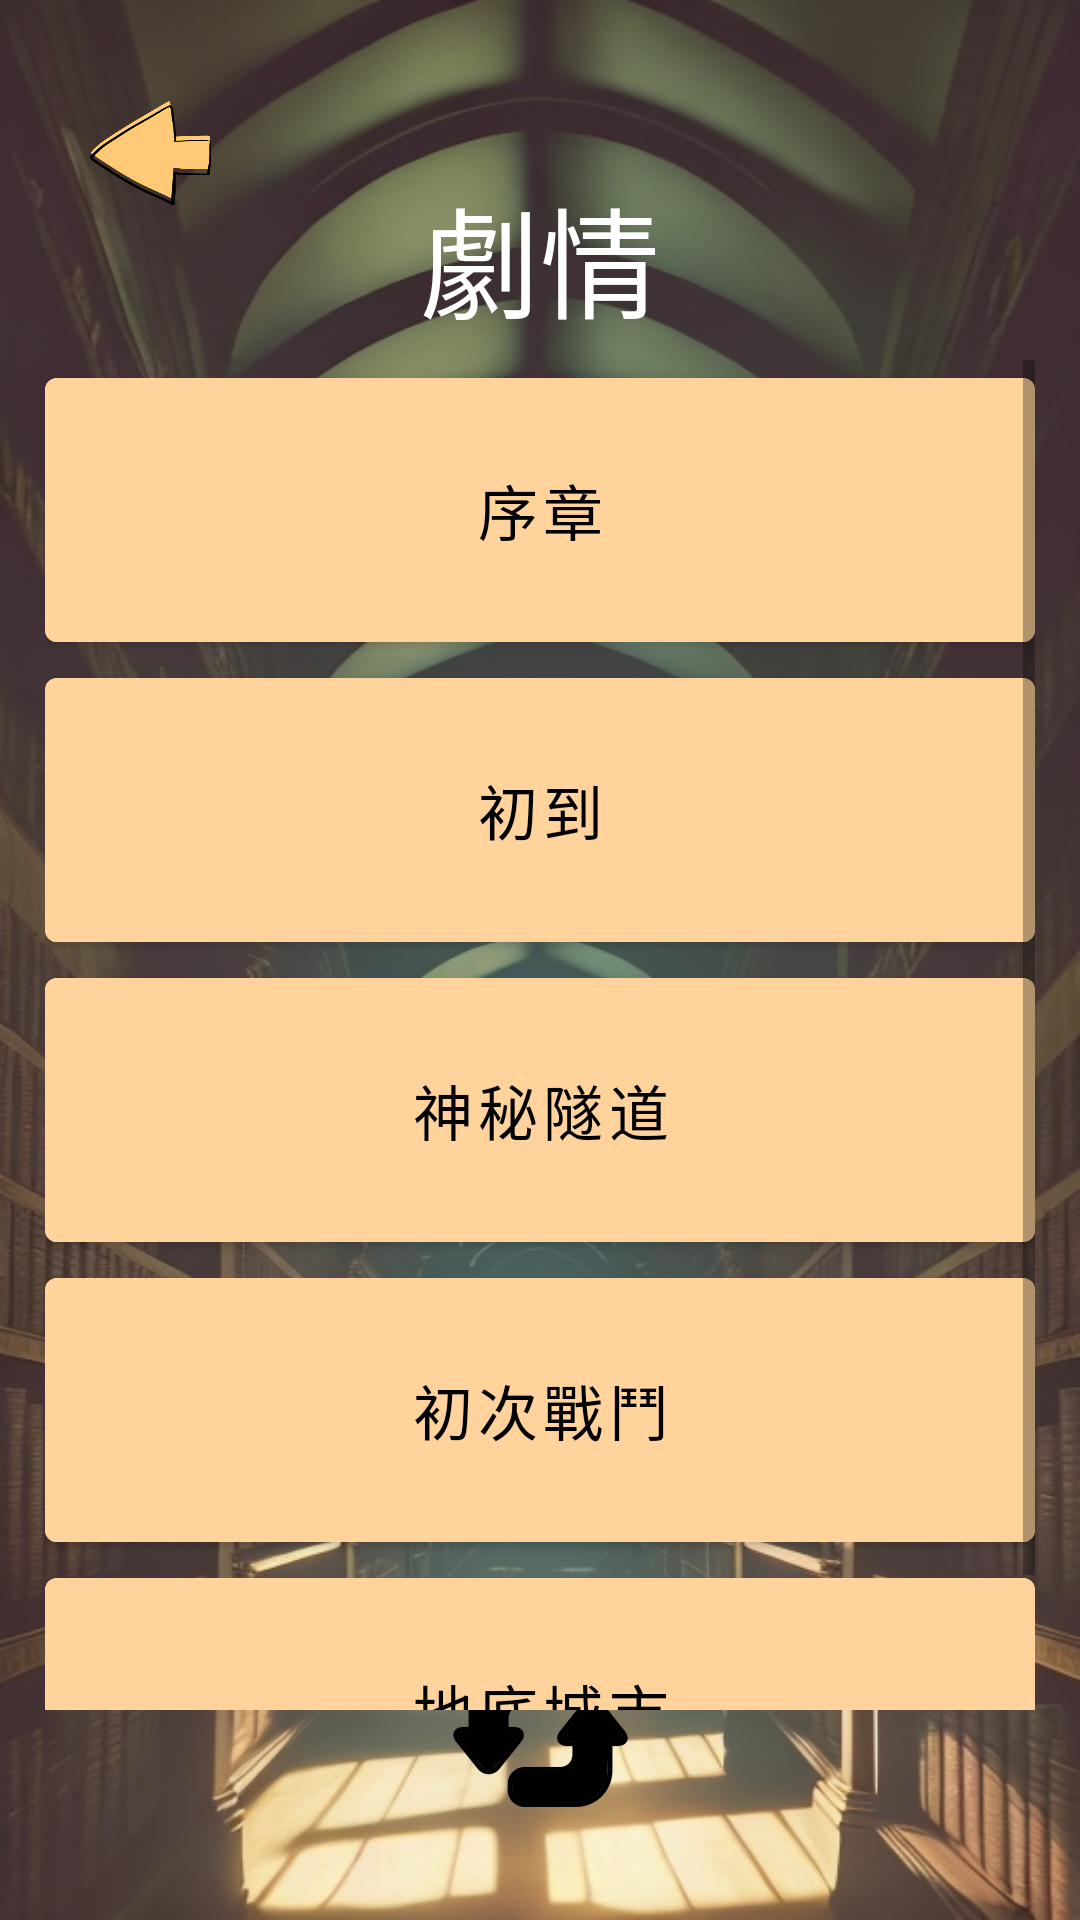

Screen size 1080w x 1920h. Icon name, then its center in pixels as point (x, y):
back: point (167, 168)
